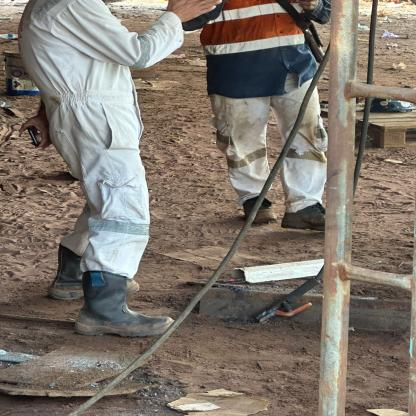bota: (70, 272, 177, 337), (53, 245, 90, 300), (281, 202, 336, 232), (243, 190, 277, 222)
